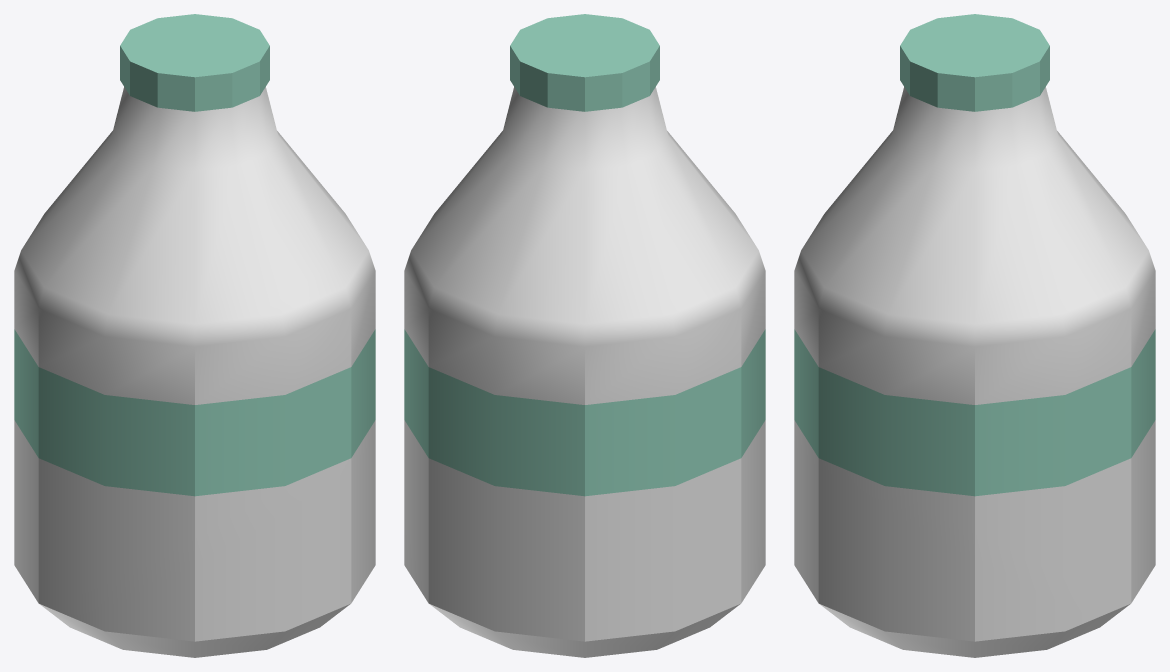
File: Ürün68.fbx
3 views of the same model, side by side, from view 1: azimuth 30°, elevation 25°; view 2: azimuth 150°, elevation 25°; view 3: azimuth 270°, elevation 25° (orthographic).
Parts seen in each view (by area): view 1: pCylinder41; view 2: pCylinder41; view 3: pCylinder41.
Part boxes in pixels (bbox=[...]): pCylinder41: bbox=[14, 14, 375, 657]; pCylinder41: bbox=[404, 14, 765, 657]; pCylinder41: bbox=[794, 14, 1155, 657].
Bounding box in the file's own units: 22.2 × 37.39 × 22.2.
